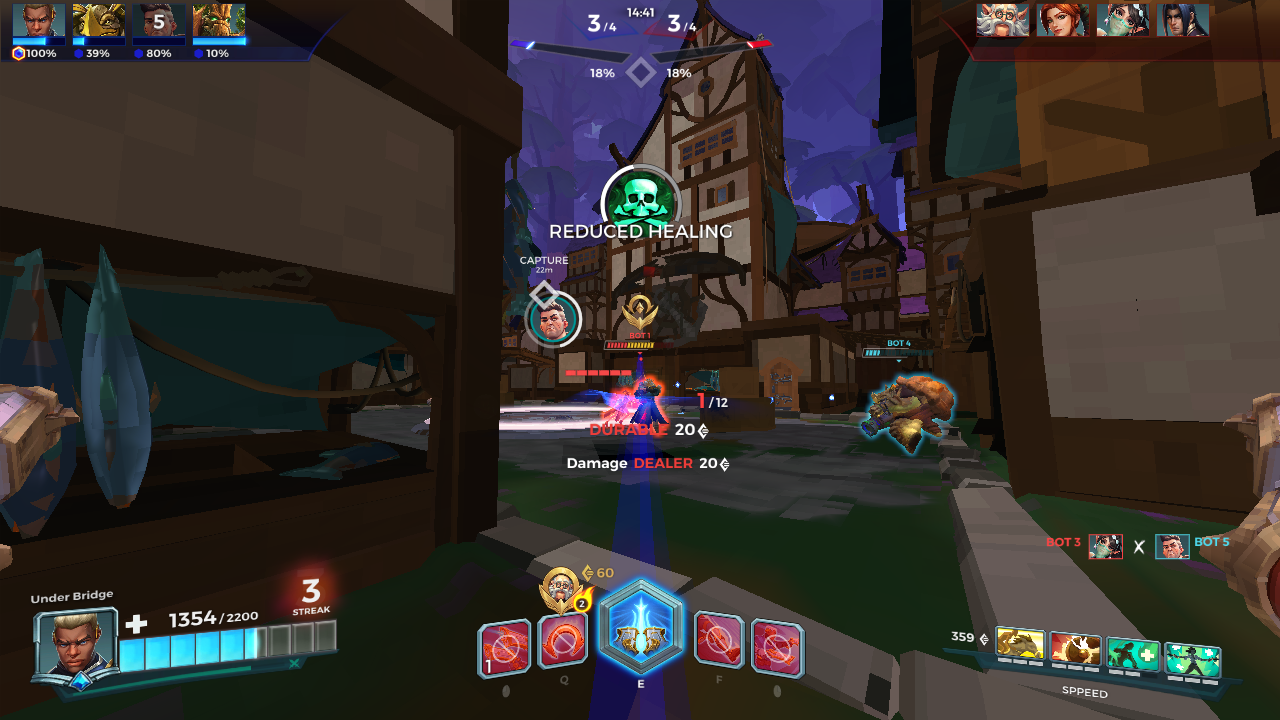model: (638, 374, 668, 433), (605, 385, 632, 428)
